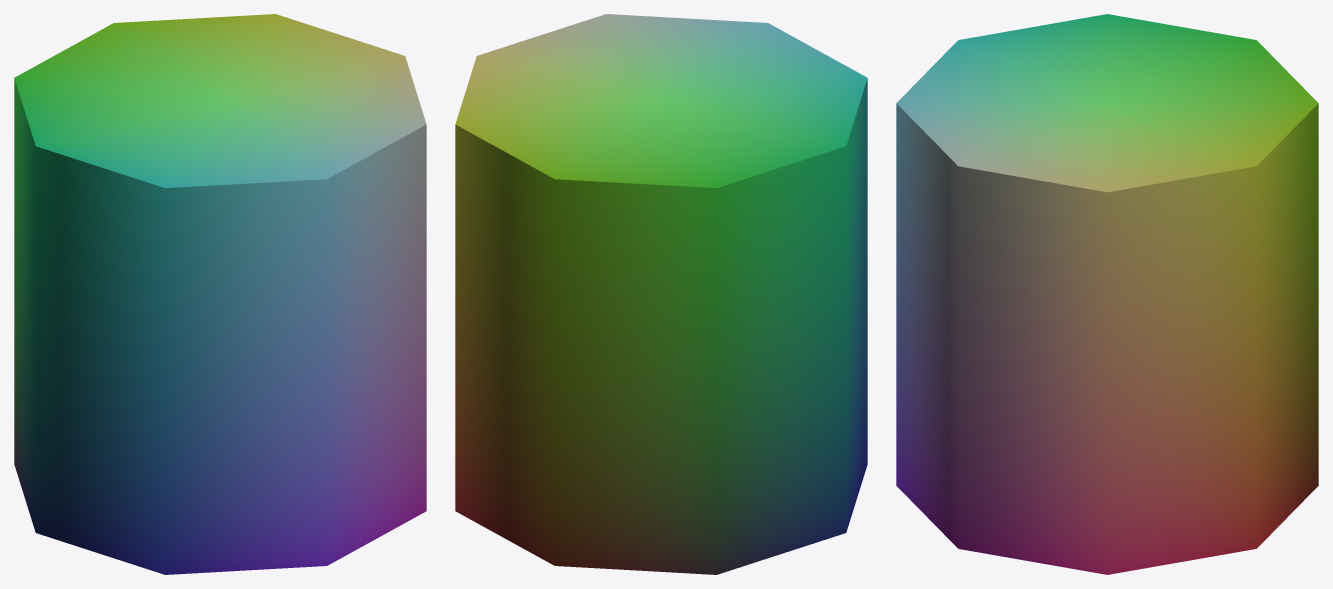
Rendered from zeometry-basic-shapes-cylinder_v1.glb.
3 views of the same model, side by side, from view 1: azimuth 30°, elevation 25°; view 2: azimuth 150°, elevation 25°; view 3: azimuth 270°, elevation 25° (orthographic).
Parts seen in each view (by area): view 1: Cylinder.001; view 2: Cylinder.001; view 3: Cylinder.001.
Part boxes in pixels (x1,y1,x2,y2): Cylinder.001: [14, 14, 426, 574]; Cylinder.001: [455, 14, 867, 574]; Cylinder.001: [896, 14, 1318, 574].
Bounding box in the file's own units: 0.5 × 0.5 × 0.5.
